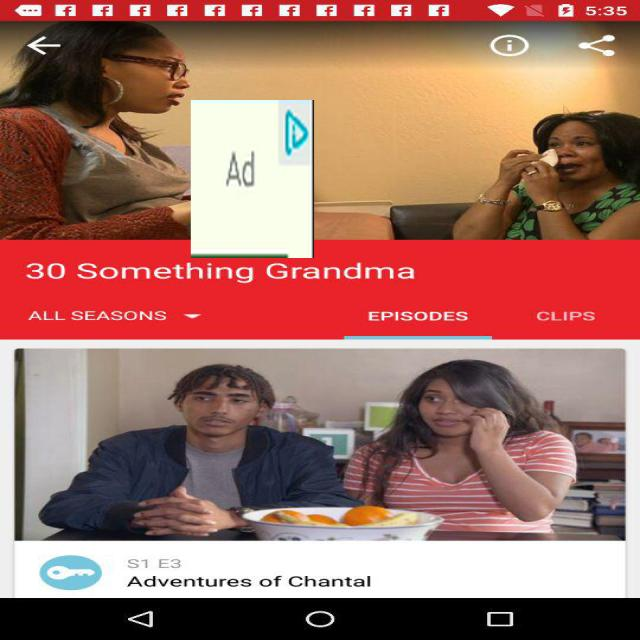sneaking: (191, 100, 314, 258)
